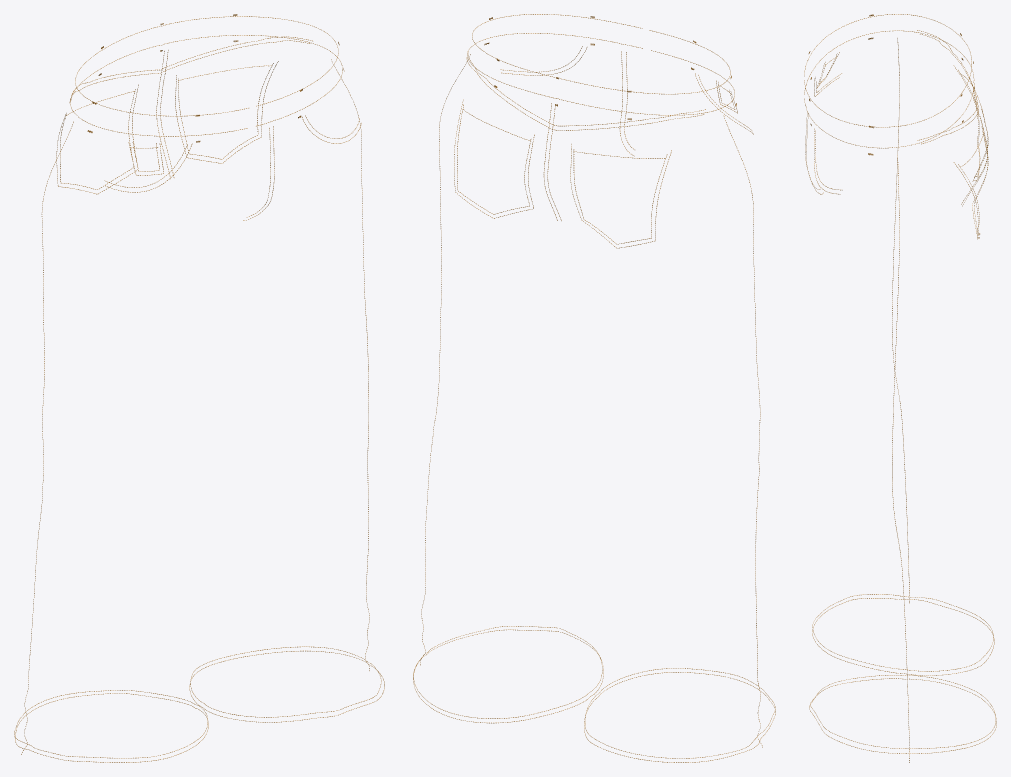
The model's file is 24_vaquero_wide_leg_costuras.glb.
3 renders of one model, left to right at view 1: azimuth 30°, elevation 25°; view 2: azimuth 150°, elevation 25°; view 3: azimuth 270°, elevation 25°, orthographic. The views are drawn at different scales.
Parts seen in each view (by area): view 1: stitch; view 2: stitch; view 3: stitch.
Part boxes in pixels (box(x1,y1,x2,y2)): stitch: box(14, 14, 384, 762); stitch: box(413, 14, 775, 762); stitch: box(804, 14, 996, 762).
Size of the model in its own units: 0.5454 by 0.9961 by 0.2795.
